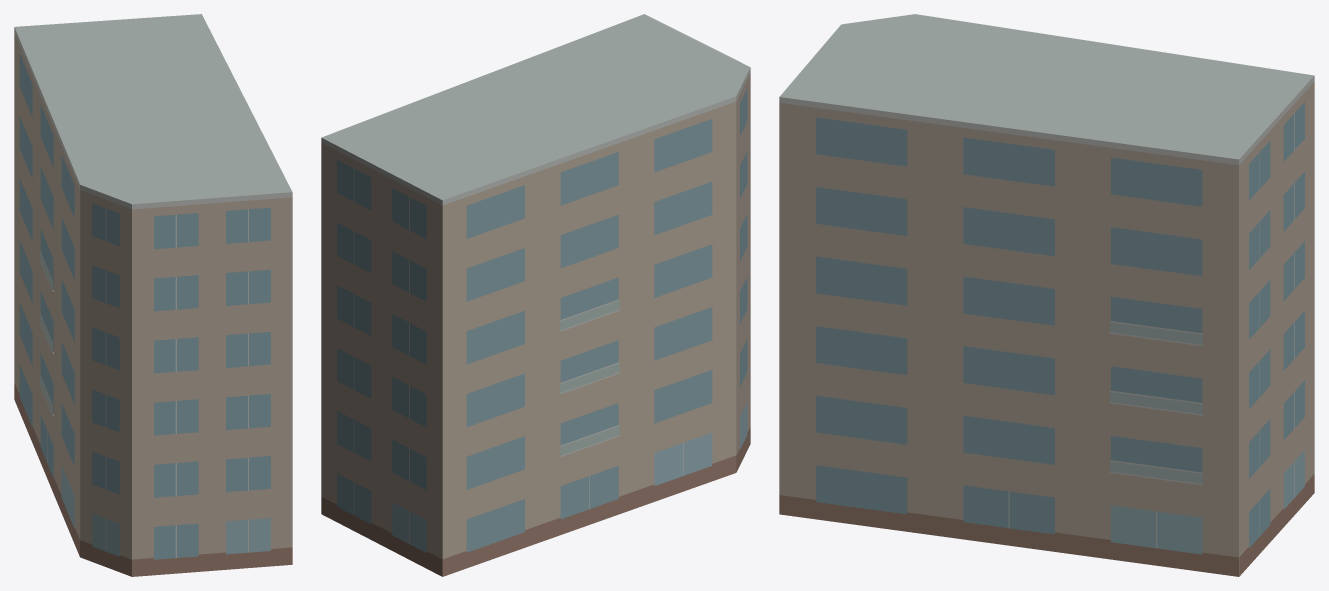
File: survey-upis-32881037.glb
The picture shows the model from 3 angles, left to right: view 1: azimuth 30°, elevation 25°; view 2: azimuth 150°, elevation 25°; view 3: azimuth 270°, elevation 25°; orthographic projection. The views are drawn at different scales.
Parts seen in each view (by area): view 1: survey-upis-32881037.tmp; view 2: survey-upis-32881037.tmp; view 3: survey-upis-32881037.tmp.
Boxes of the visible parts, bbox=[...] form: survey-upis-32881037.tmp: bbox=[14, 14, 292, 576]; survey-upis-32881037.tmp: bbox=[321, 14, 750, 576]; survey-upis-32881037.tmp: bbox=[779, 14, 1314, 576].
Size of the model in its own units: 13.24 by 17.7 by 20.58.
